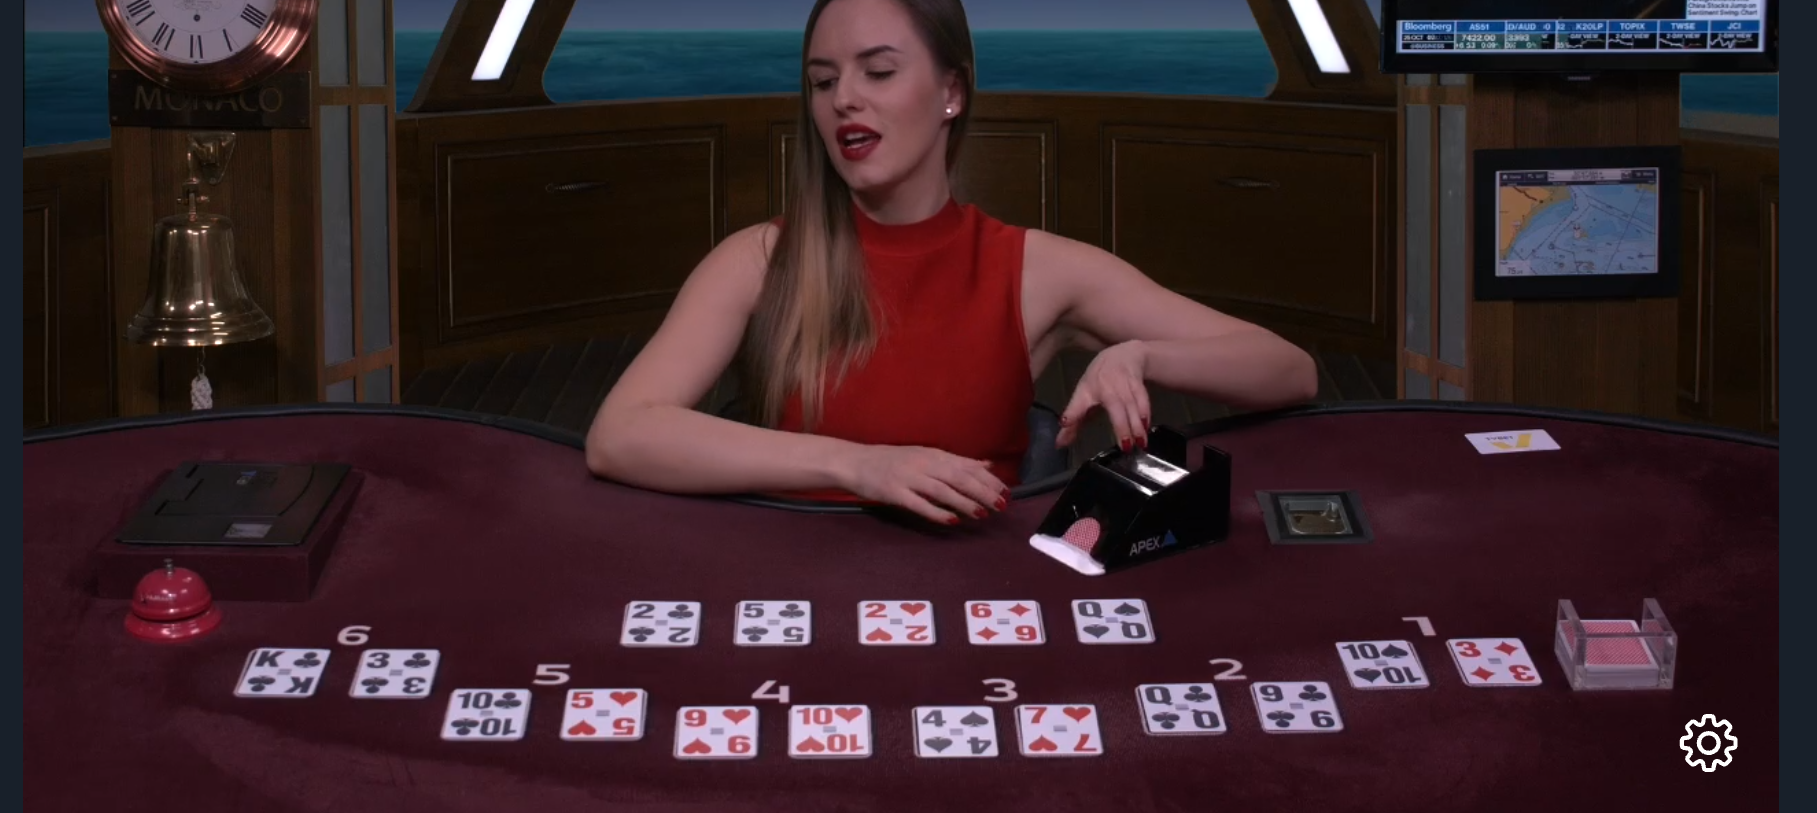10c: (437, 687, 531, 745)
10h: (785, 703, 876, 759)
10s: (1337, 640, 1437, 695)
2c: (621, 599, 705, 647)
2h: (858, 596, 936, 652)
3c: (352, 646, 435, 700)
3d: (1442, 639, 1540, 691)
4s: (906, 703, 998, 759)
5c: (730, 594, 816, 649)
5h: (562, 684, 648, 746)
6d: (962, 596, 1046, 651)
7h: (1015, 701, 1101, 761)
9c: (1253, 679, 1351, 737)
9h: (674, 704, 762, 759)
kc: (238, 646, 327, 702)
qc: (1130, 681, 1225, 739)
qs: (1072, 595, 1163, 645)
